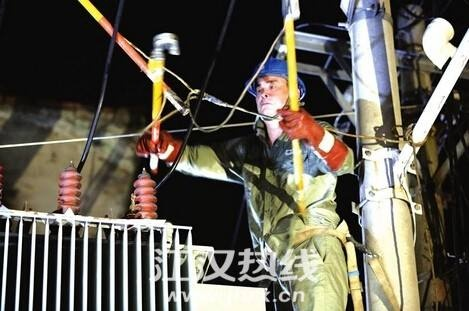blue: (248, 58, 303, 122)
